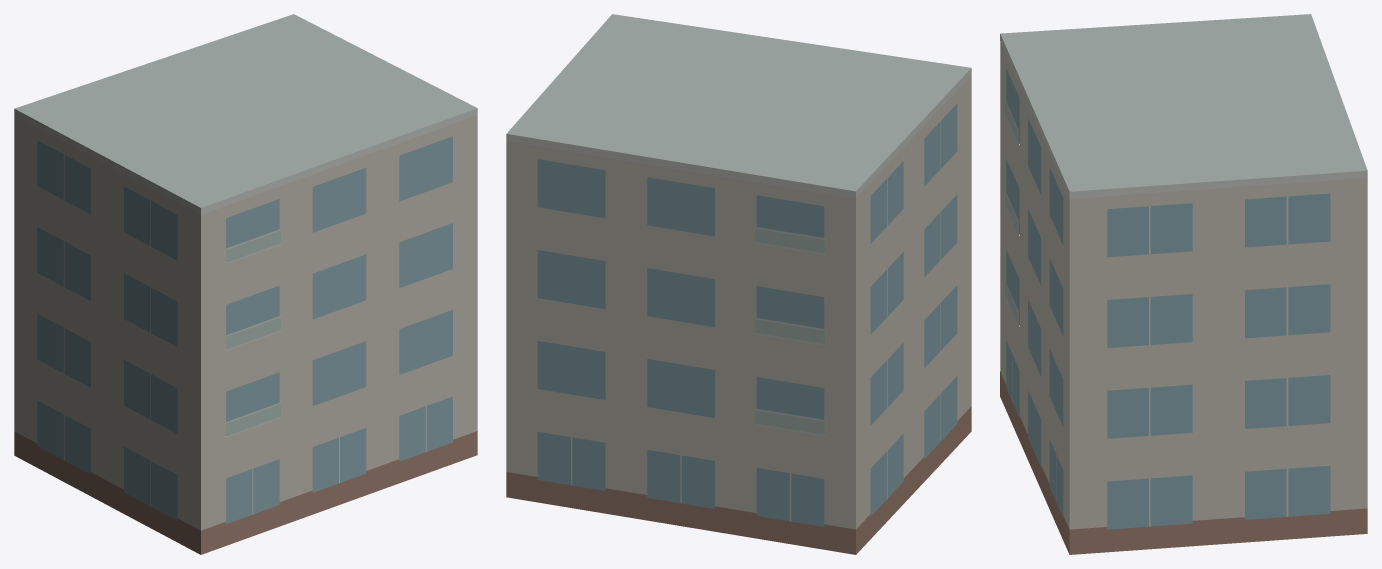
The model's file is survey-upis-32983207.glb.
3 renders of one model, left to right at view 1: azimuth 30°, elevation 25°; view 2: azimuth 150°, elevation 25°; view 3: azimuth 270°, elevation 25°, orthographic. The views are drawn at different scales.
Visible parts, largest first — view 1: survey-upis-32983207.tmp; view 2: survey-upis-32983207.tmp; view 3: survey-upis-32983207.tmp.
Part boxes in pixels (x1,y1,x2,y2): survey-upis-32983207.tmp: (14,14,477,554); survey-upis-32983207.tmp: (506,14,971,554); survey-upis-32983207.tmp: (1000,14,1367,554).
Bounding box in the file's own units: 12.82 × 12.2 × 11.2.
